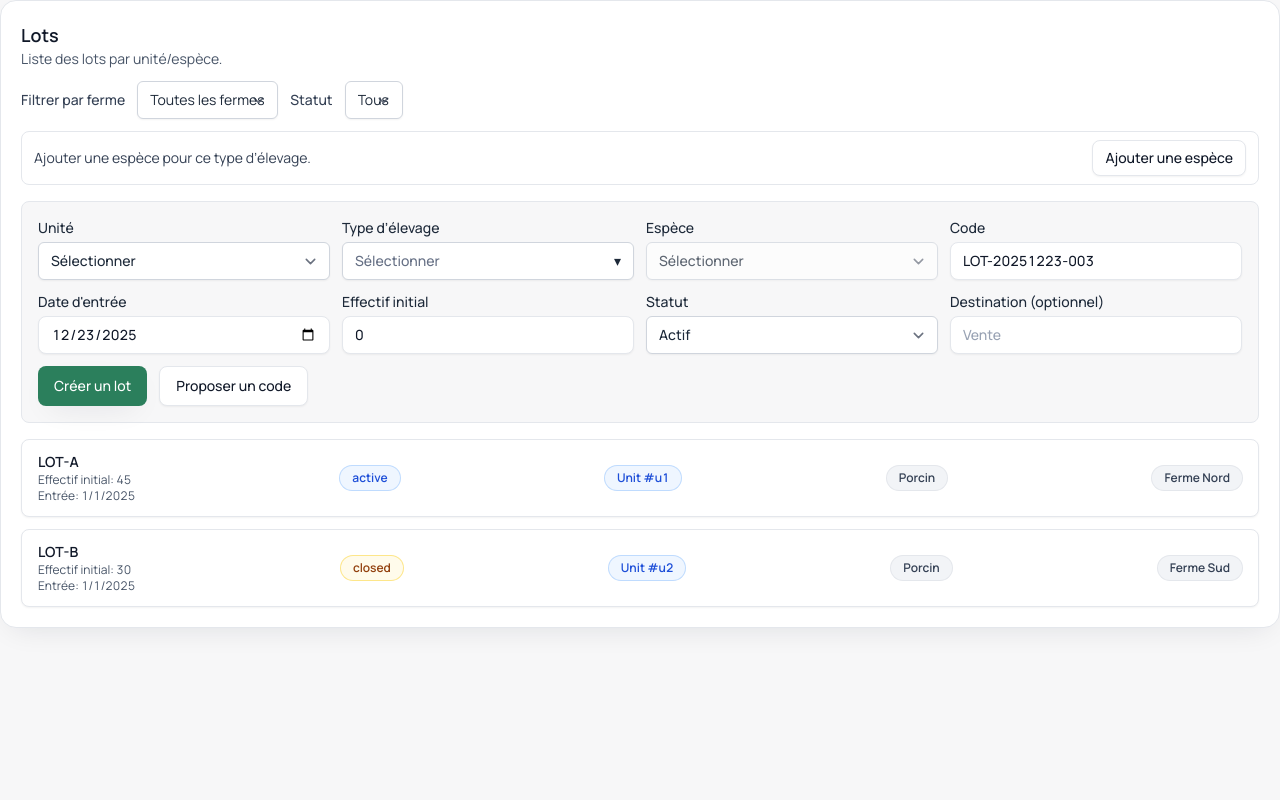
Test: LotsPage › filtre par ferme
The image size is (1280, 800).
Expected: the text "LOT-A" is shown, [38,452,79,471]
Expected: the text "LOT-B" is shown, [38,542,78,561]
Select "Ferme Sud" in the dropdown labelled "Filtrer par ferme" at [208, 100], box [137,81,278,119]
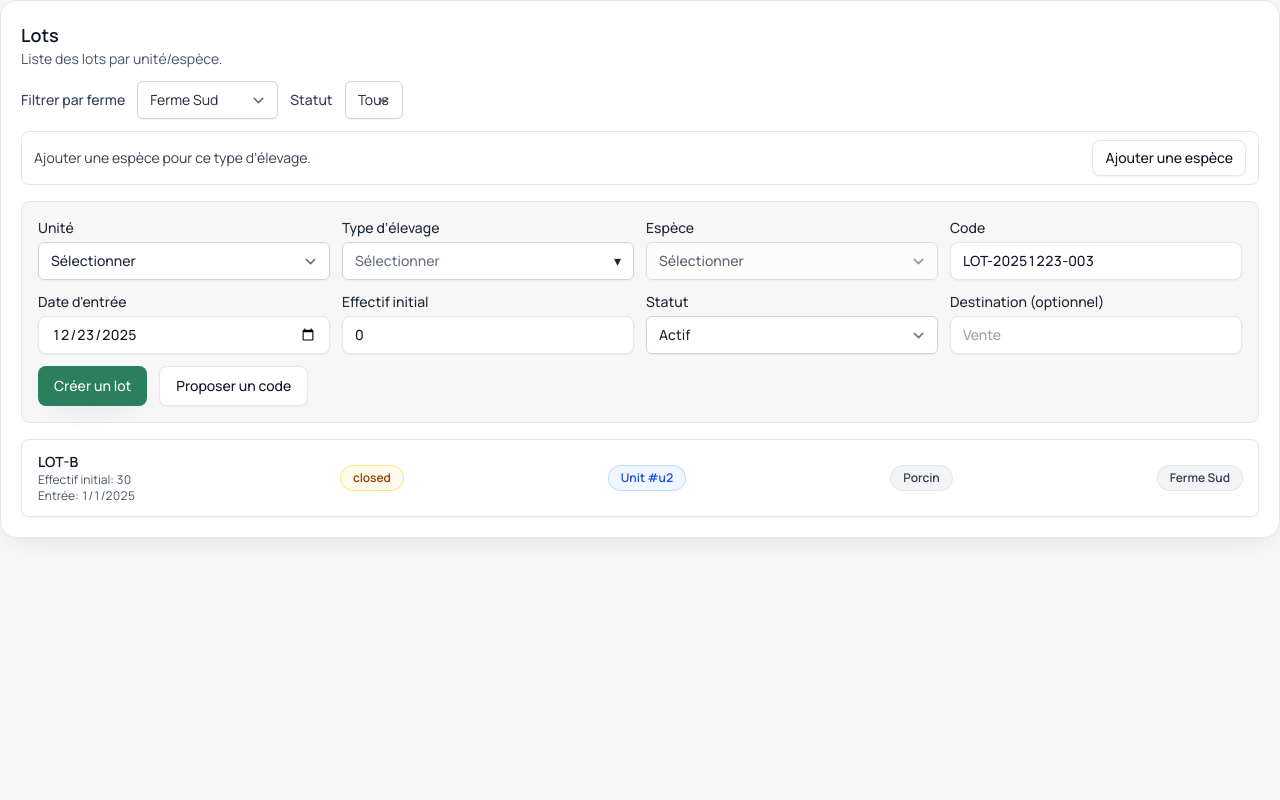
Expected: the text "LOT-B" is shown, [38,452,78,471]
Expected: the text "LOT-A" is gone
